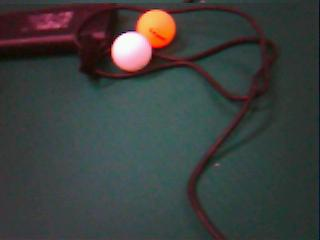oball: (137, 9, 176, 49)
